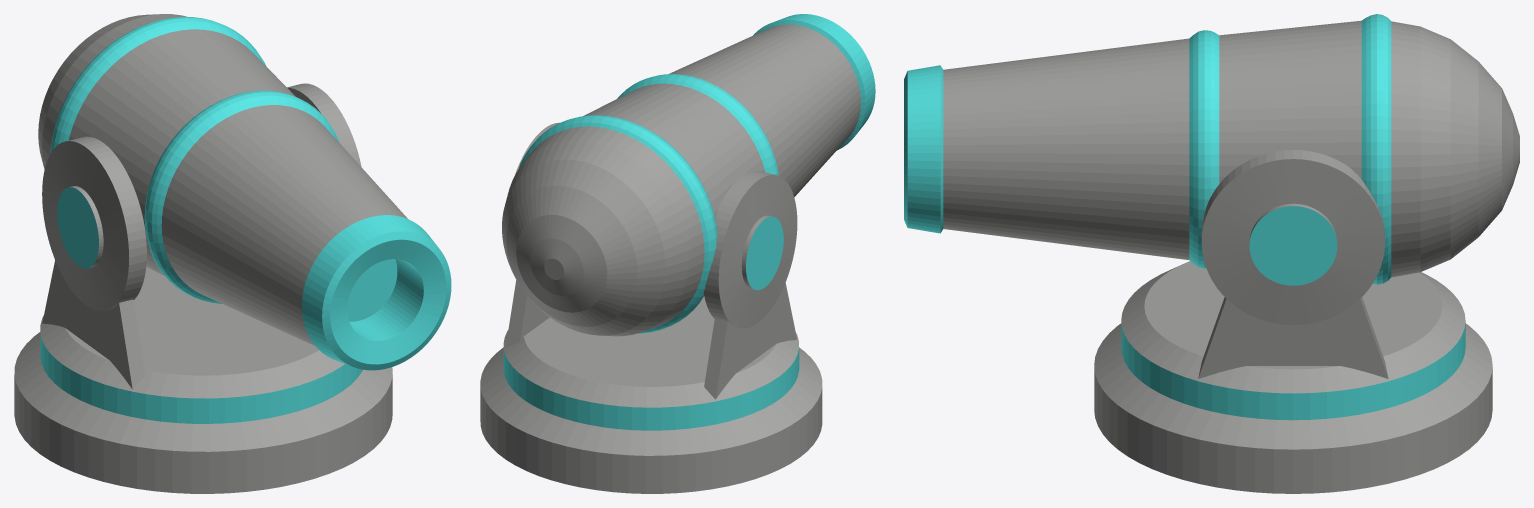
Rendered from cannon_ice.fbx.
3 renders of one model, left to right at view 1: azimuth 30°, elevation 25°; view 2: azimuth 150°, elevation 25°; view 3: azimuth 270°, elevation 25°, orthographic. The views are drawn at different scales.
Visible parts, largest first — view 1: Circle; view 2: Circle; view 3: Circle.
Boxes of the visible parts, left/top/right/bottom form: Circle: left=14, top=14, right=451, bottom=493; Circle: left=480, top=14, right=875, bottom=493; Circle: left=904, top=14, right=1519, bottom=493.
Bounding box in the file's own units: 231 × 246 × 358.
Materials: 1 (1 with a texture image).
